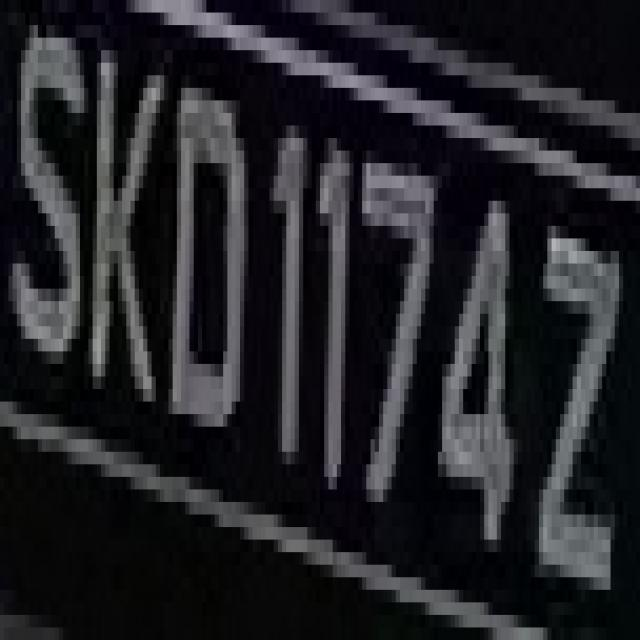1: (270, 76, 312, 490), (320, 163, 362, 527)
4: (446, 150, 526, 602)
7: (354, 113, 434, 540)
D: (156, 50, 240, 527)
K: (84, 12, 160, 452)
S: (13, 38, 80, 389)
Z: (530, 176, 628, 602)
